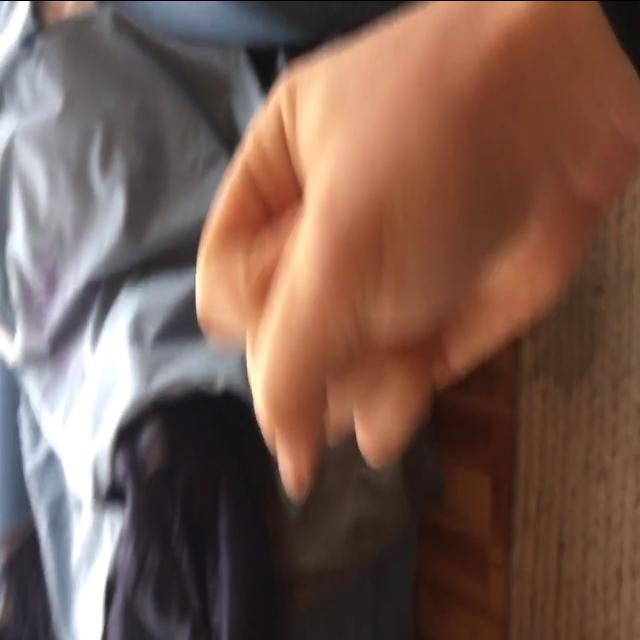Rock: (196, 1, 586, 490)
